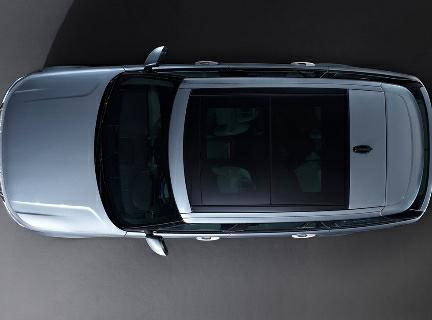路虎-揽胜: (2, 45, 428, 260)
